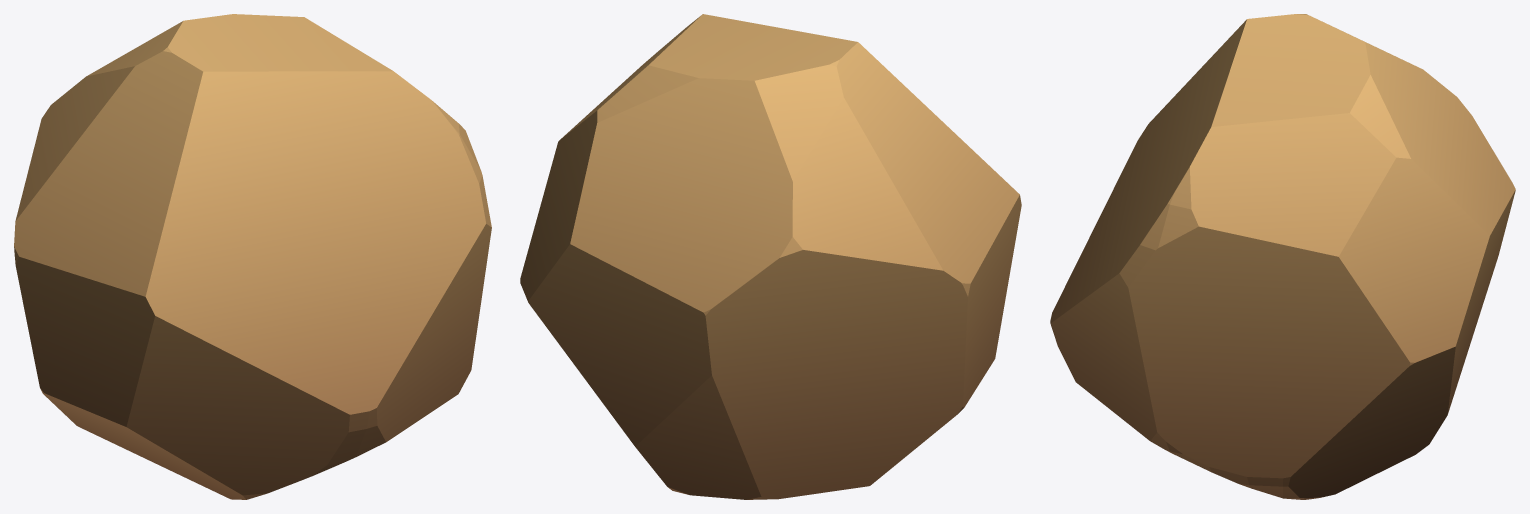
The model's file is rock03.fbx.
3 views of the same model, side by side, from view 1: azimuth 30°, elevation 25°; view 2: azimuth 150°, elevation 25°; view 3: azimuth 270°, elevation 25° (orthographic). The views are drawn at different scales.
Visible parts, largest first — view 1: Rock03; view 2: Rock03; view 3: Rock03.
Boxes of the visible parts, left/top/right/bottom form: Rock03: left=14, top=14, right=491, bottom=499; Rock03: left=520, top=14, right=1021, bottom=499; Rock03: left=1050, top=14, right=1515, bottom=499.
Size of the model in its own units: 181 by 187 by 190.
